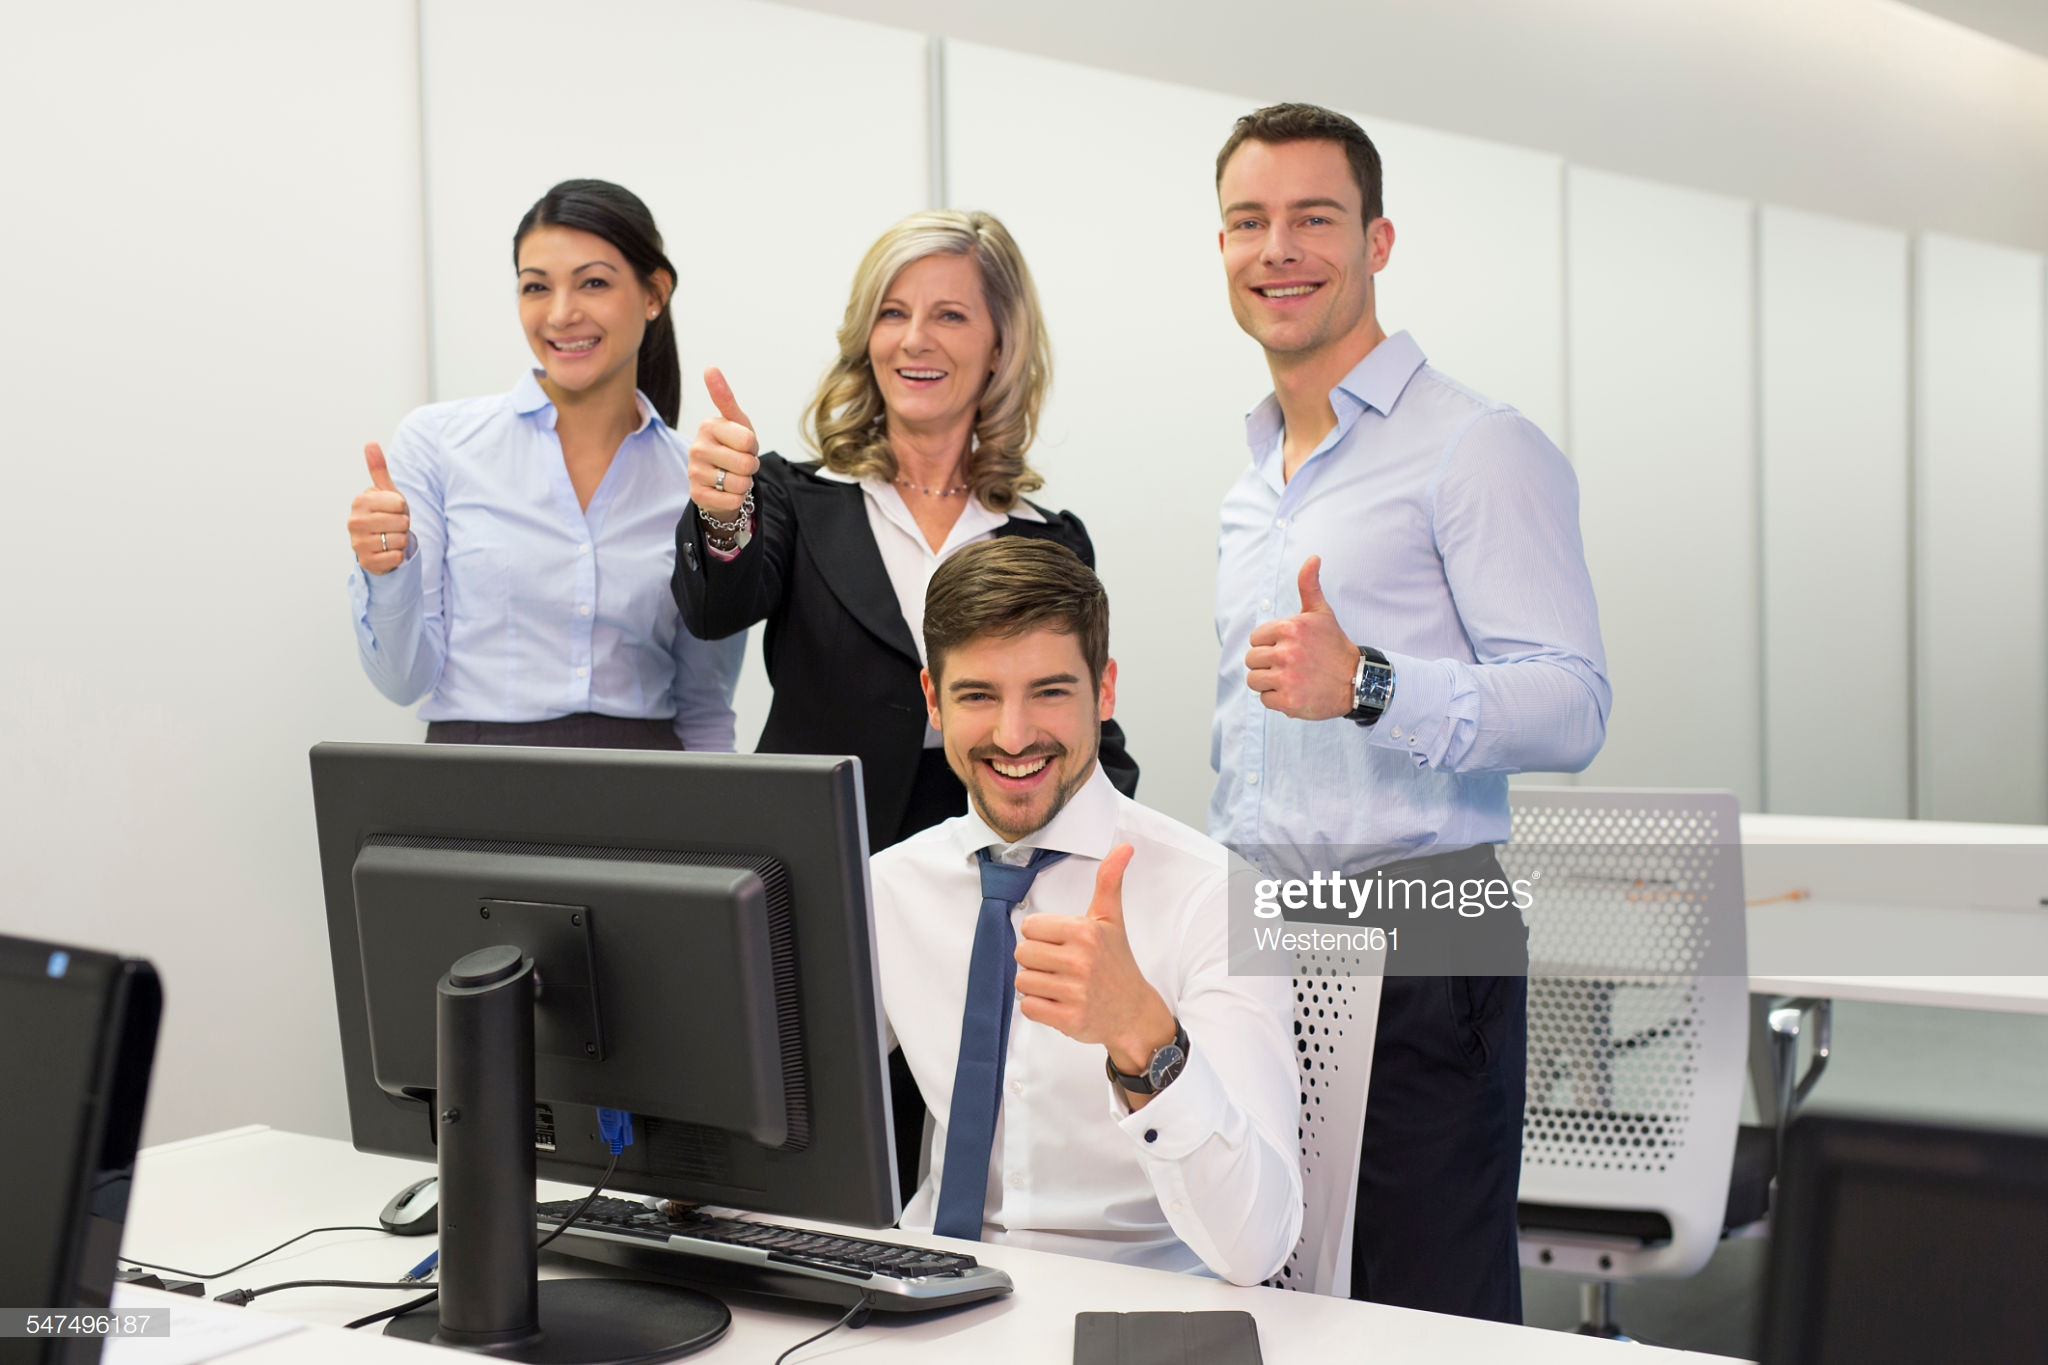thumbsup: (1013, 842, 1134, 1034), (1244, 555, 1326, 719), (687, 367, 760, 510), (349, 442, 410, 570)
